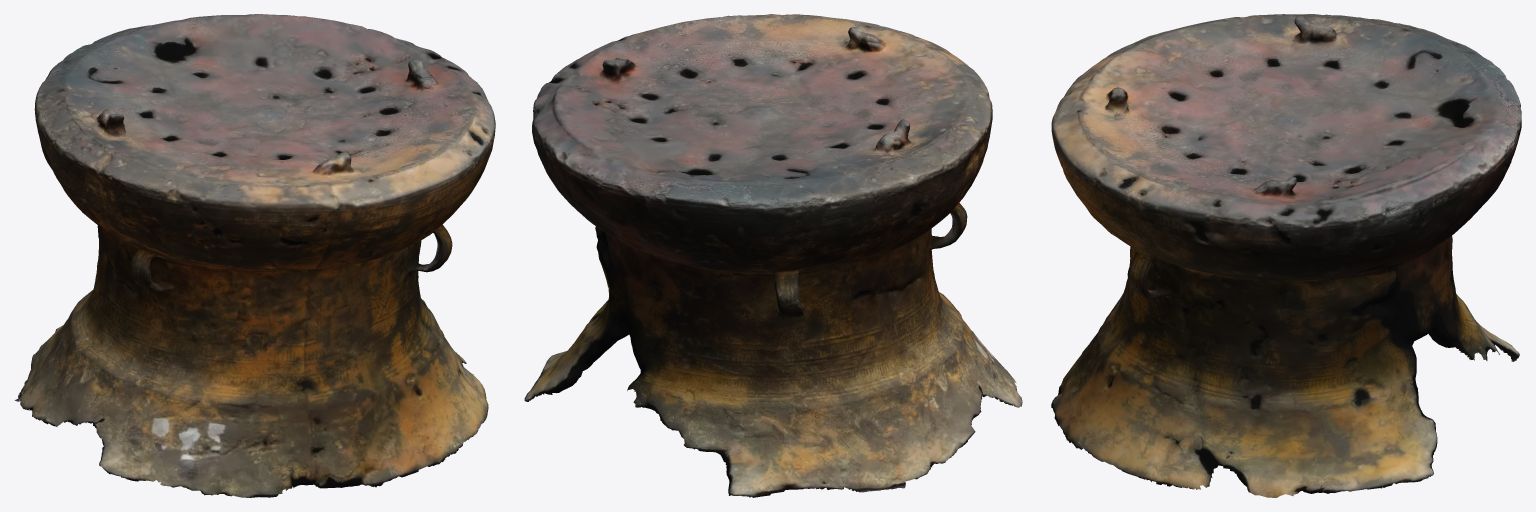
The model's file is trong-dong-khai-quat.glb.
3 renders of one model, left to right at view 1: azimuth 30°, elevation 25°; view 2: azimuth 150°, elevation 25°; view 3: azimuth 270°, elevation 25°, orthographic.
Parts seen in each view (by area): view 1: Object_4; view 2: Object_4; view 3: Object_4.
Part boxes in pixels (x1,y1,x2,y2): Object_4: [14, 14, 495, 497]; Object_4: [524, 14, 1022, 497]; Object_4: [1051, 14, 1521, 497].
Size of the model in its own units: 0.793 by 0.5878 by 0.7804.
1 material, 1 textured.
